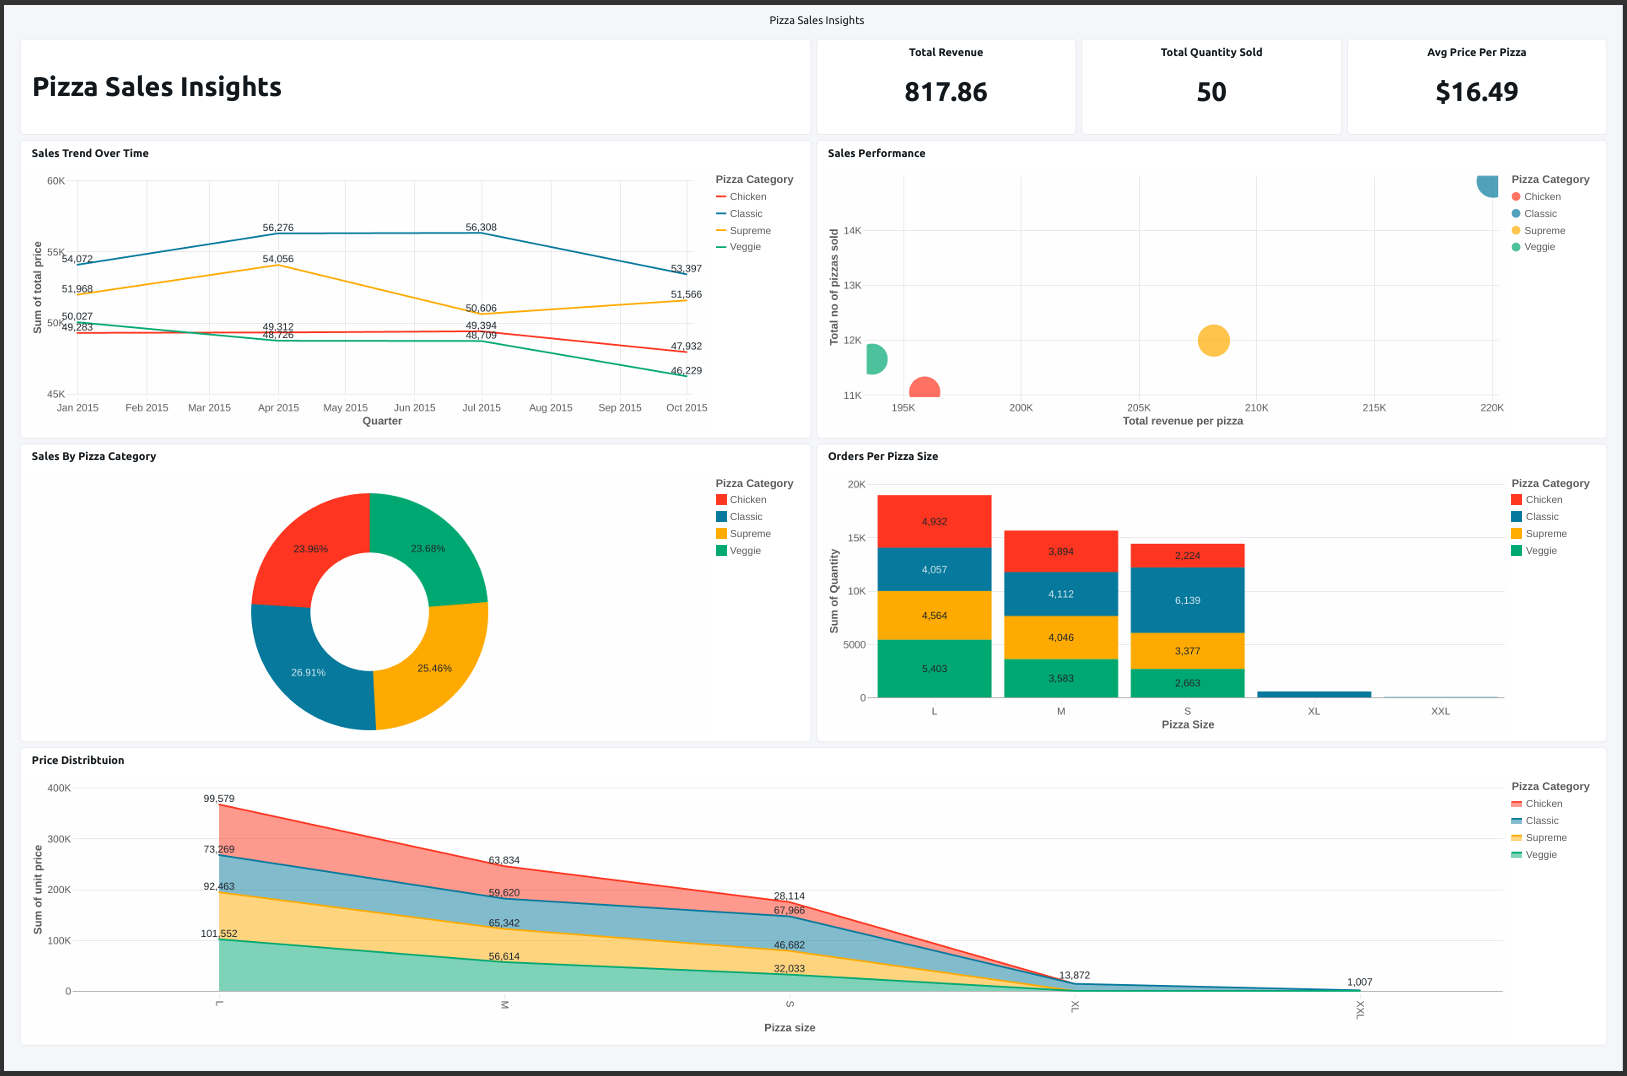

The page's visual inventory and layout, read from the dashboard file:
{"tool":"powerbi","page":{"name":"Insight 1","canvas":[1280,720],"ordinal":0},"visuals":[{"type":"scatterChart","title":"Sales Performance","fields":{"X":["Sum(pizza_sales.total_price)"],"Y":["Sum(pizza_sales.quantity)"],"Series":["pizza_sales.pizza_category"],"Size":["Sum(pizza_sales.unit_price)"]},"box":[456.2,118.8,421.2,281.2],"z":0},{"type":"lineChart","title":"Sales Trend Over Time","fields":{"Category":["pizza_sales.order_date.Variation.Date Hierarchy.Year","pizza_sales.order_date.Variation.Date Hierarchy.Quarter","pizza_sales.order_date.Variation.Date Hierarchy.Month","pizza_sales.order_date.Variation.Date Hierarchy.Day"],"Y":["Sum(pizza_sales.total_price)"],"Series":["pizza_sales.pizza_category"]},"box":[28.8,118.8,400,281.2],"z":1000},{"type":"donutChart","title":"Sales by Pizza Category","fields":{"Y":["Sum(pizza_sales.total_price)"],"Series":["pizza_sales.pizza_category"]},"box":[906.2,118.8,346.2,278.8],"z":2000},{"type":"ribbonChart","title":"Price Distribution","fields":{"Category":["pizza_sales.pizza_size"],"Y":["Sum(pizza_sales.unit_price)"],"Series":["pizza_sales.pizza_category"]},"box":[693,417.2,559.9,281.3],"z":3000},{"type":"columnChart","title":"Orders per Pizza Size","fields":{"Category":["pizza_sales.pizza_size"],"Y":["Sum(pizza_sales.quantity)"],"Series":["pizza_sales.pizza_category"]},"box":[28.8,417.2,638.1,285.4],"z":4000},{"type":"card","fields":{"Values":["Sum(pizza_sales.total_price)"]},"box":[622.5,10,192.5,95],"z":5000},{"type":"card","fields":{"Values":["Sum(pizza_sales.quantity)"]},"box":[841.2,10,192.5,95],"z":6000},{"type":"card","fields":{"Values":["Avg(pizza_sales.unit_price)"]},"box":[1060,10,192.5,95],"z":7000},{"type":"textbox","title":"Pizza Sales Insights","box":[92,24.7,468.7,64.7],"z":8000},{"type":"image","box":[28.9,27.8,58.5,58.9],"z":9000}]}

Visuals, with their boxes on the page's 1280x720 design canvas (x1, y1, x2, y2). These are canvas units, not pixel positions in the 1627x1076 screenshot, which may show the page scaled, cropped or inside an application window:
"Sales Performance" scatterChart: {"x1": 456, "y1": 119, "x2": 877, "y2": 400}
"Sales Trend Over Time" lineChart: {"x1": 29, "y1": 119, "x2": 429, "y2": 400}
"Sales by Pizza Category" donutChart: {"x1": 906, "y1": 119, "x2": 1252, "y2": 398}
"Price Distribution" ribbonChart: {"x1": 693, "y1": 417, "x2": 1253, "y2": 698}
"Orders per Pizza Size" columnChart: {"x1": 29, "y1": 417, "x2": 667, "y2": 703}
card - Sum(pizza_sales.total_price): {"x1": 622, "y1": 10, "x2": 815, "y2": 105}
card - Sum(pizza_sales.quantity): {"x1": 841, "y1": 10, "x2": 1034, "y2": 105}
card - Avg(pizza_sales.unit_price): {"x1": 1060, "y1": 10, "x2": 1252, "y2": 105}
"Pizza Sales Insights" textbox: {"x1": 92, "y1": 25, "x2": 561, "y2": 89}
image: {"x1": 29, "y1": 28, "x2": 87, "y2": 87}
